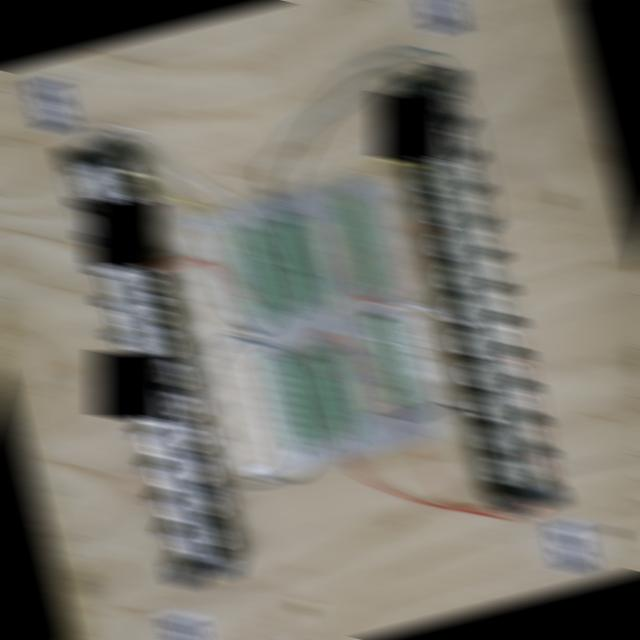Flathead_Block: (393, 63, 567, 516)
Phillips_Block: (57, 134, 237, 589)
Terminal_1: (336, 196, 386, 292), (368, 313, 416, 410)
Terminal_2: (290, 353, 339, 446), (316, 346, 364, 438), (256, 220, 304, 312), (229, 229, 277, 320), (283, 213, 331, 304)
